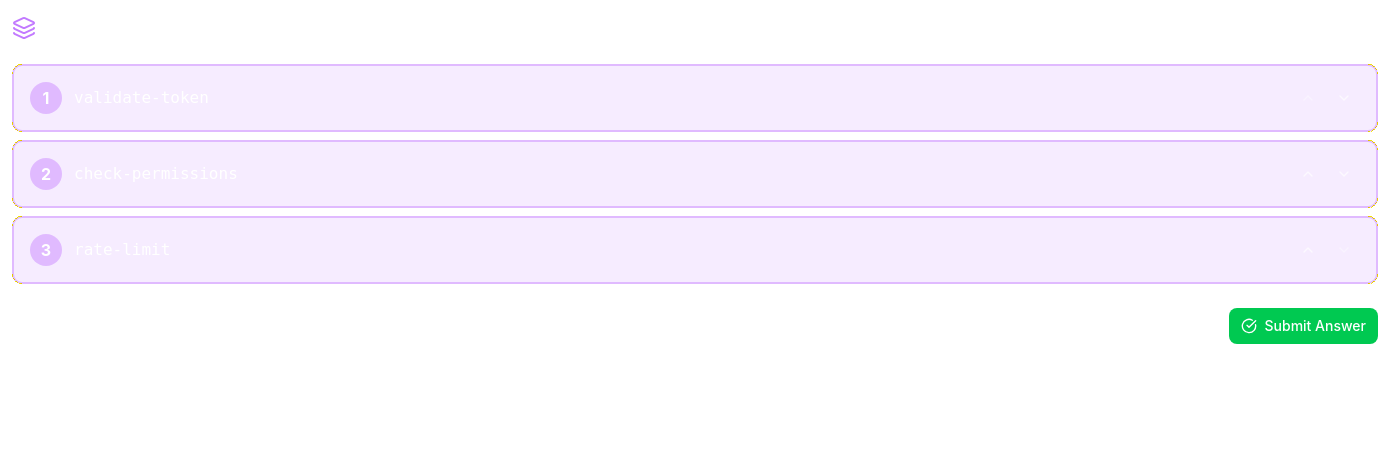
Test: MiddlewareSequence › feedback › shows success feedback after correct answer
Click the button "Submit Answer" at (1303, 326), box [1228,308,1378,344]
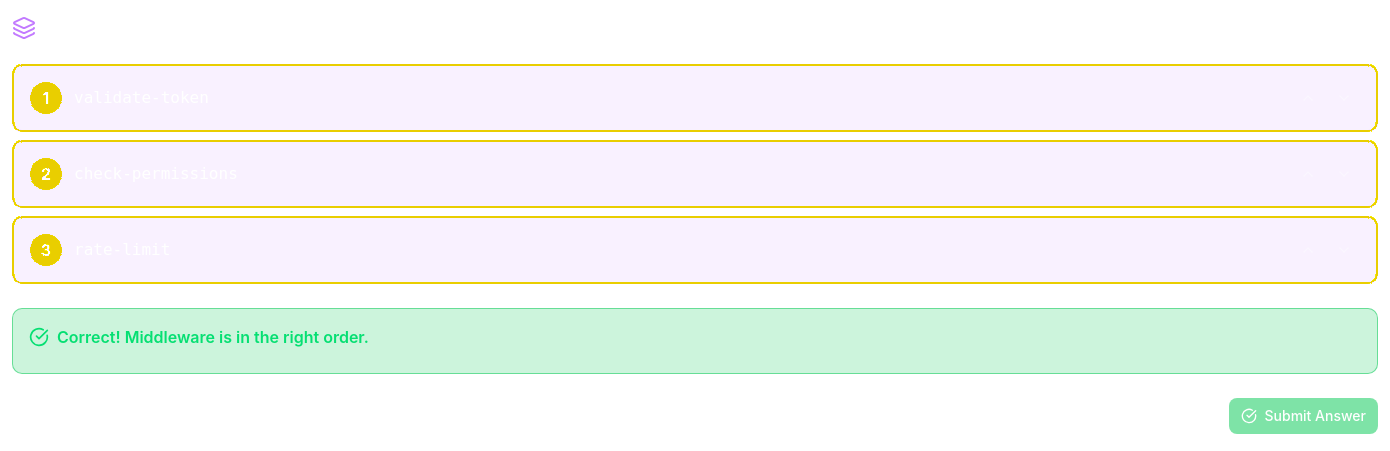
Check: the text "Correct! Middleware is in the right order." is shown, box [57,325,369,349]
